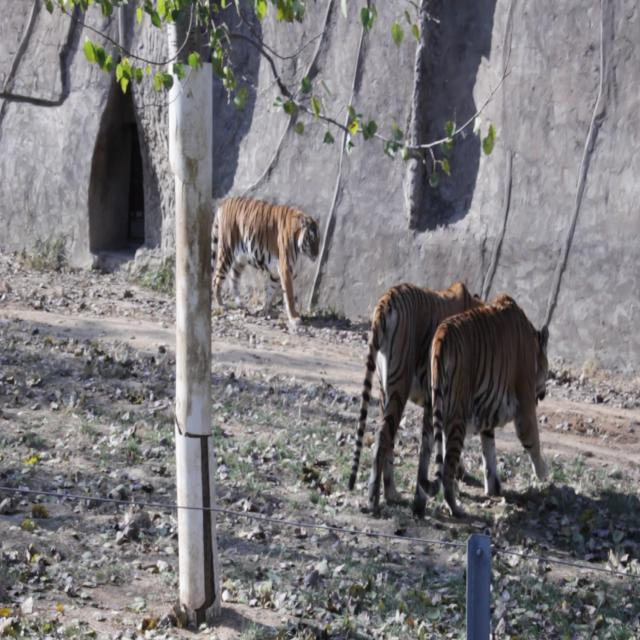Tiger: (350, 240, 469, 527), (420, 283, 558, 506), (210, 186, 320, 329)
